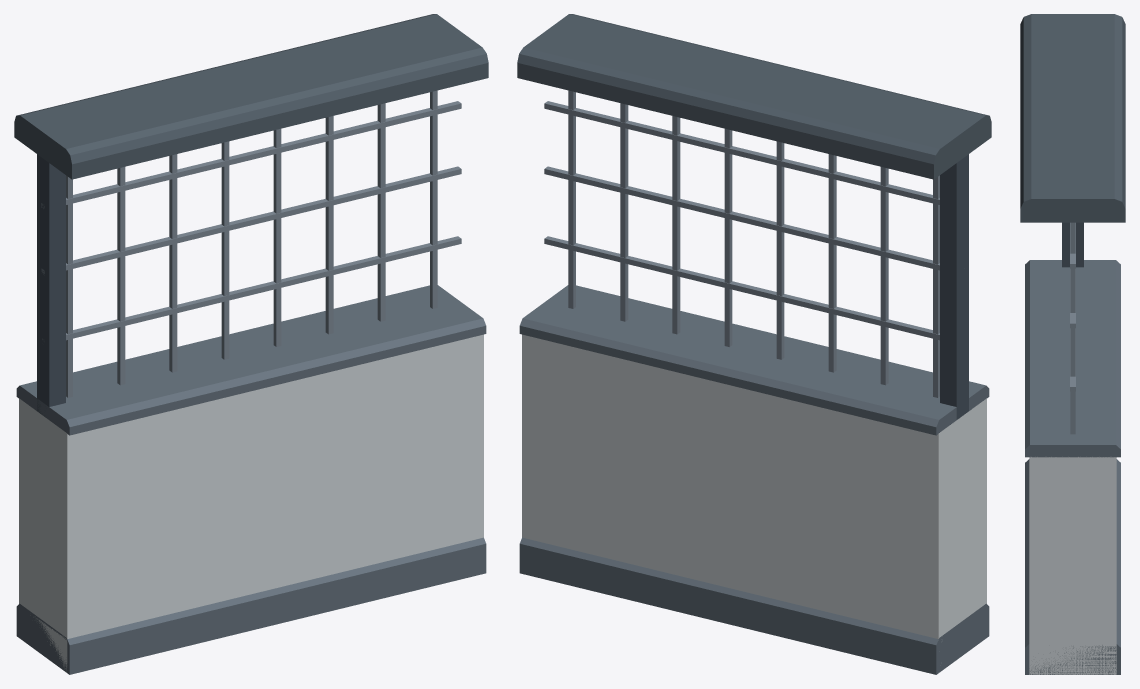
Rendered from wand_halb.glb.
3 views of the same model, side by side, from view 1: azimuth 30°, elevation 25°; view 2: azimuth 150°, elevation 25°; view 3: azimuth 270°, elevation 25° (orthographic). The views are drawn at different scales.
Visible parts, largest first — view 1: wand_halb; view 2: wand_halb; view 3: wand_halb.
Part boxes in pixels (x1=…): wand_halb: x1=14, y1=14, x2=488, y2=674; wand_halb: x1=517, y1=14, x2=991, y2=674; wand_halb: x1=1020, y1=14, x2=1125, y2=674.
Size of the model in its own units: 1 by 1.2 by 0.24.
